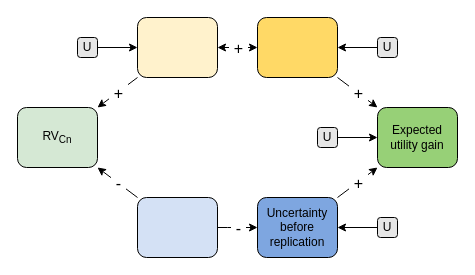
Image size: 475x275. Some labels were removed from this diagram. Each missing label, with the box of its shape:
Average yearly citation count: (136, 16, 218, 78)
Sample size: (136, 196, 218, 258)
Value: (256, 16, 338, 78)
